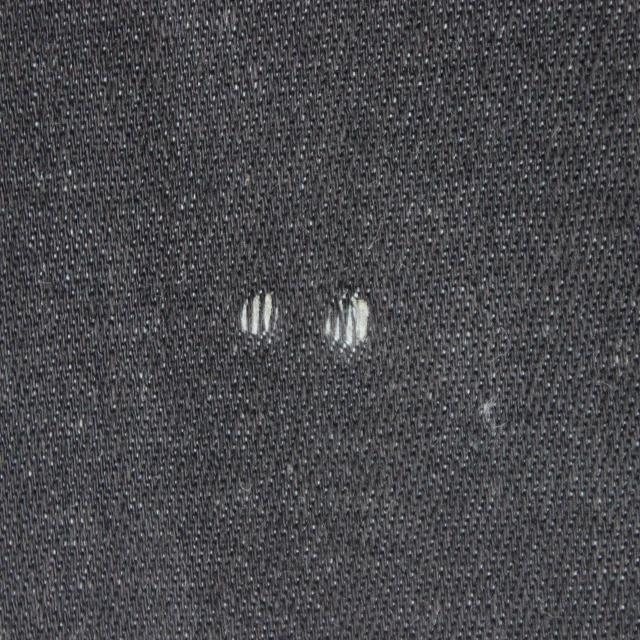pulled_or_thick_thread: (323, 297, 367, 352), (237, 292, 275, 340)
